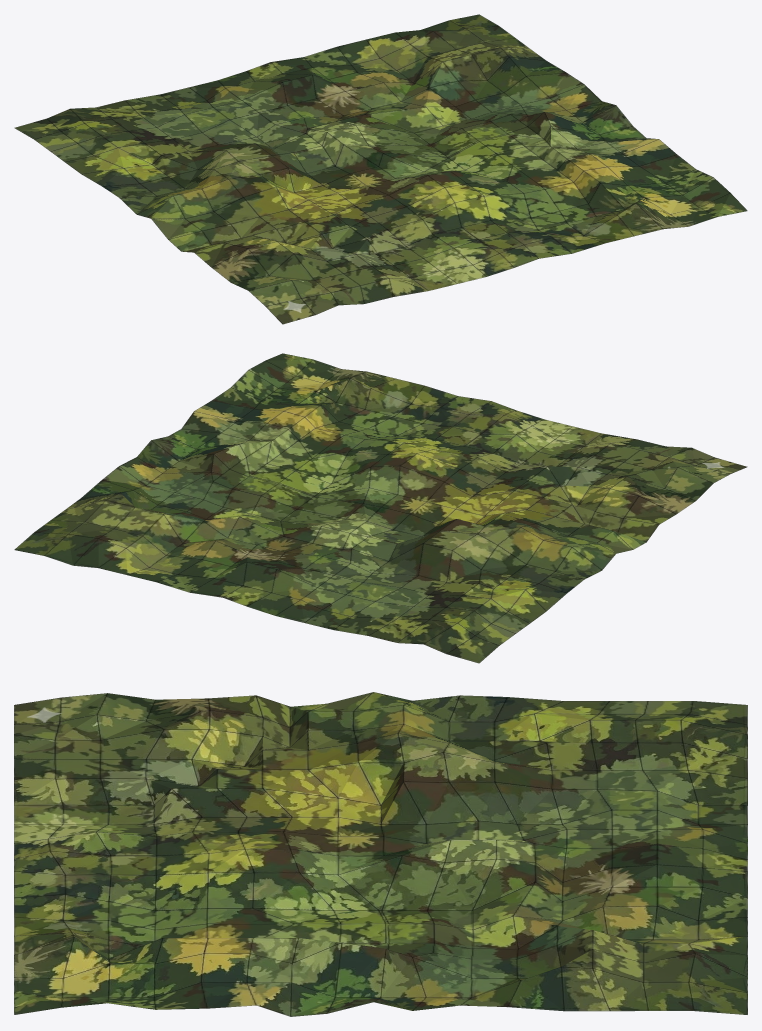
Rendered from ground.obj.
3 renders of one model, top to bottom at view 1: azimuth 30°, elevation 25°; view 2: azimuth 150°, elevation 25°; view 3: azimuth 270°, elevation 25°, orthographic. The views are drawn at different scales.
Visible parts, largest first — view 1: 平面; view 2: 平面; view 3: 平面.
Part boxes in pixels (x1,y1,x2,y2): 平面: (14,14,747,324); 平面: (14,353,747,663); 平面: (14,692,747,1016).
Bounding box in the file's own units: 30 × 1.59 × 30.
1 material, 1 textured.
